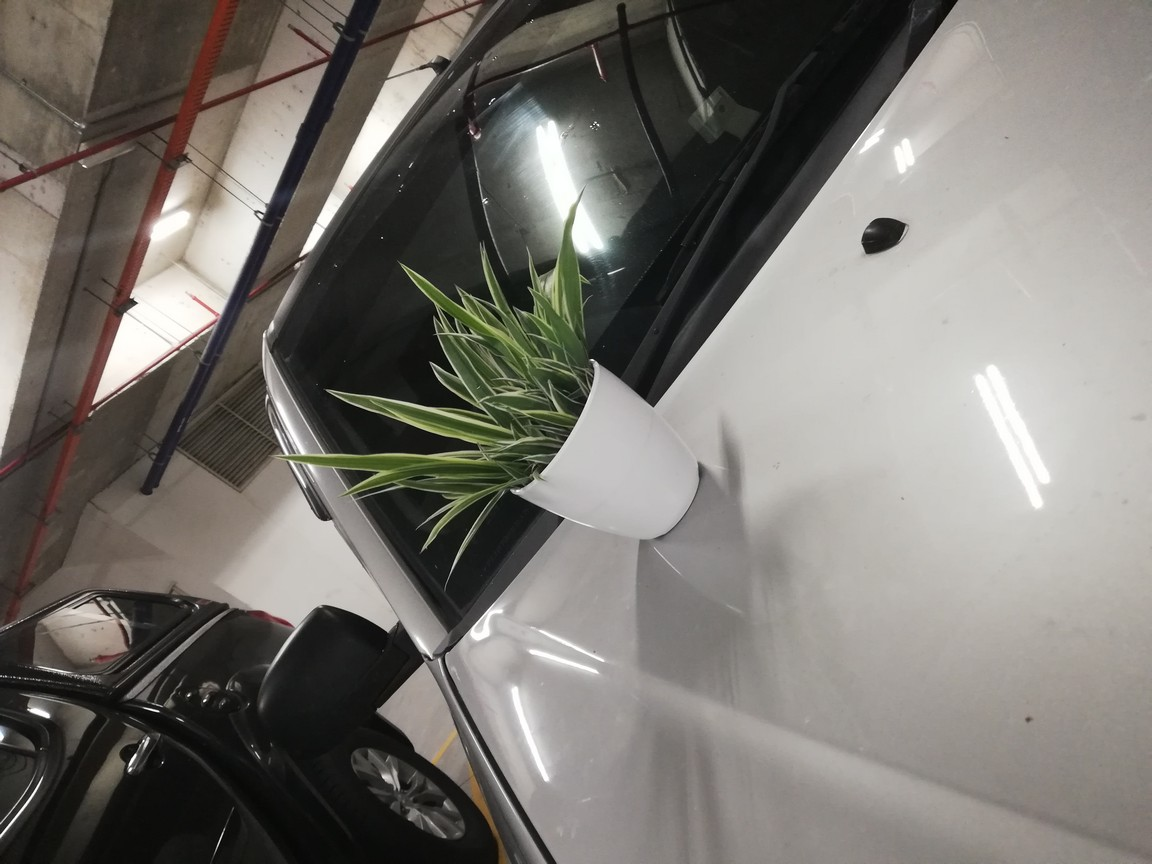daun: (445, 490, 508, 594), (324, 385, 441, 435), (556, 184, 587, 306), (397, 258, 452, 307), (269, 453, 374, 473), (335, 469, 396, 499), (479, 238, 506, 299), (422, 506, 452, 555), (416, 503, 448, 531), (426, 360, 452, 392), (454, 282, 478, 314), (523, 244, 540, 287), (548, 378, 567, 415), (432, 317, 452, 349), (526, 310, 551, 334), (528, 287, 551, 313), (477, 393, 524, 404), (515, 453, 558, 465), (512, 305, 530, 330), (510, 422, 526, 442), (580, 273, 595, 290)
